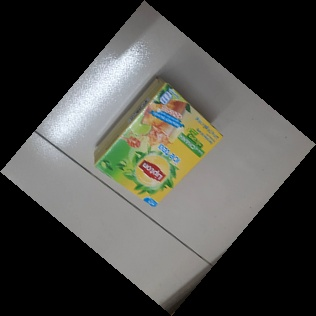LipTon: (90, 77, 223, 207)
